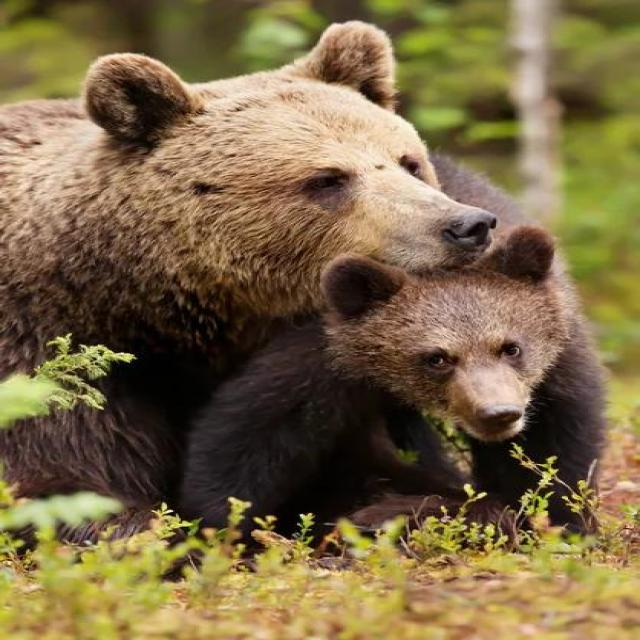Bear: (0, 21, 504, 508), (178, 225, 599, 521)
